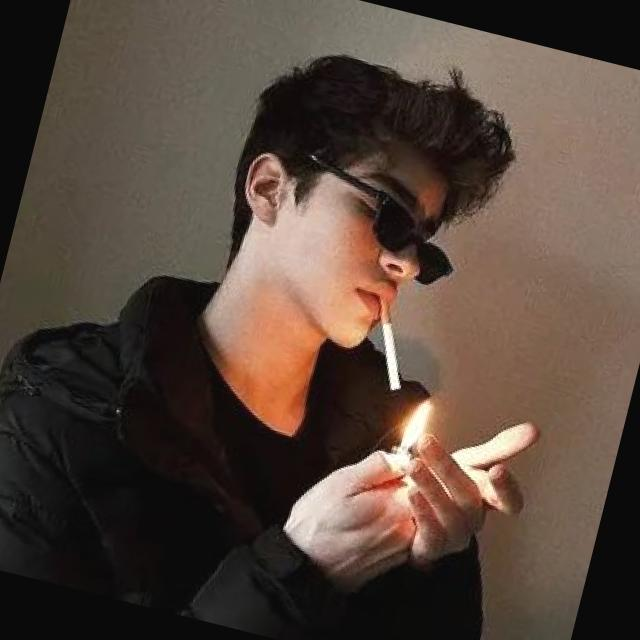smoke: (353, 293, 425, 398)
